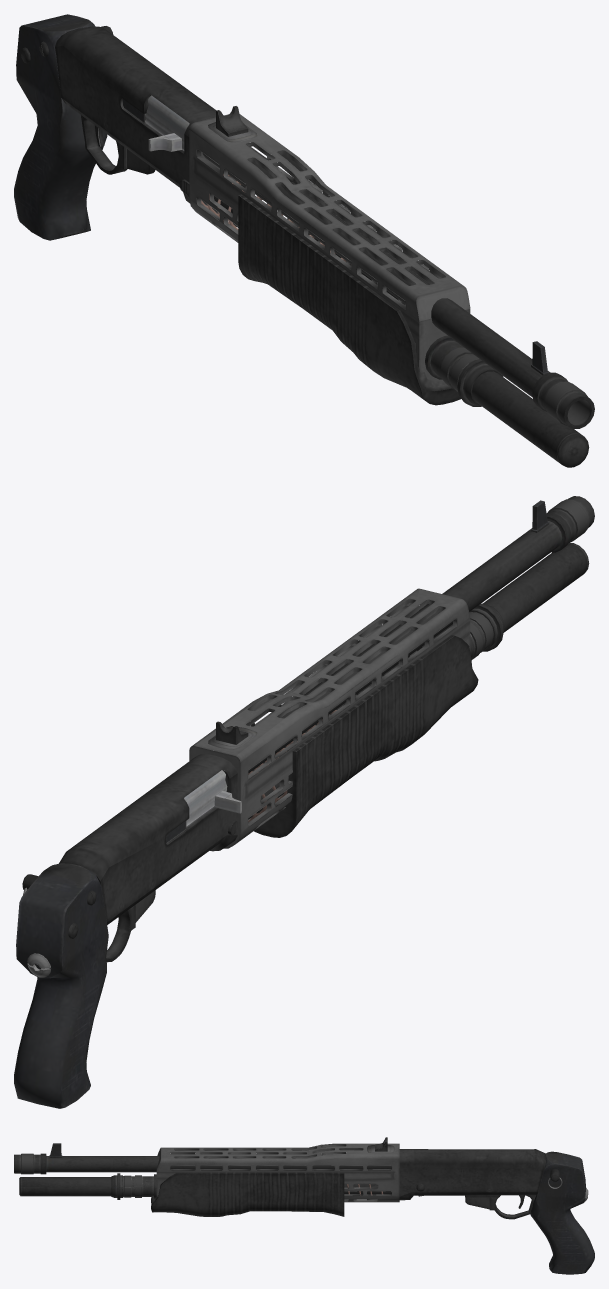
Rendered from Shotgun_S12.fbx.
3 views of the same model, one above another, from view 1: azimuth 30°, elevation 25°; view 2: azimuth 150°, elevation 25°; view 3: azimuth 270°, elevation 25° (orthographic). The views are drawn at different scales.
Parts seen in each view (by area): view 1: GunMesh; view 2: GunMesh; view 3: GunMesh.
Part boxes in pixels (x1,y1,x2,y2): GunMesh: (14, 14, 594, 467); GunMesh: (14, 496, 594, 1108); GunMesh: (14, 1137, 594, 1274).
Size of the model in its own units: 0.0776 by 0.2059 by 0.84.
Materials: 1 (1 with a texture image).
